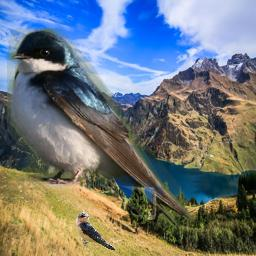Swallow: (7, 28, 195, 240), (75, 210, 119, 252)
